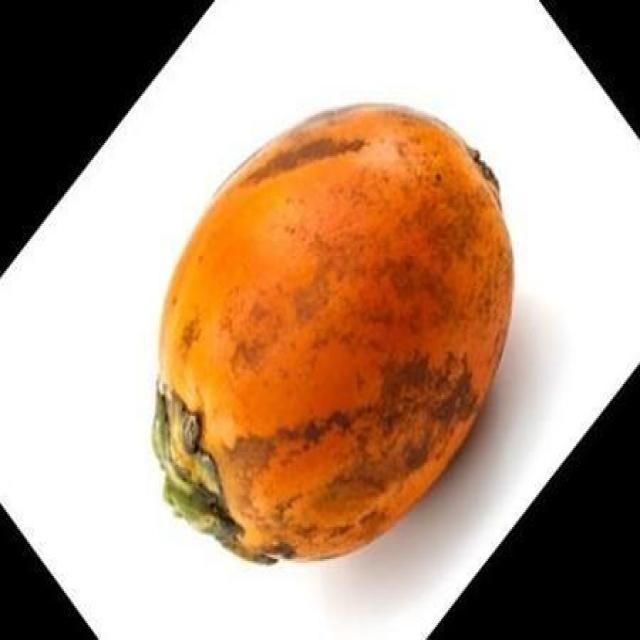good: (149, 104, 516, 567)
